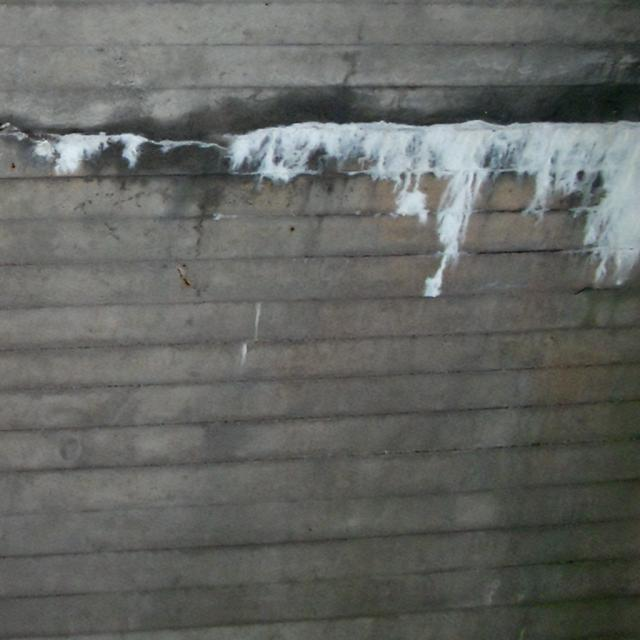D01: (222, 118, 639, 297)
